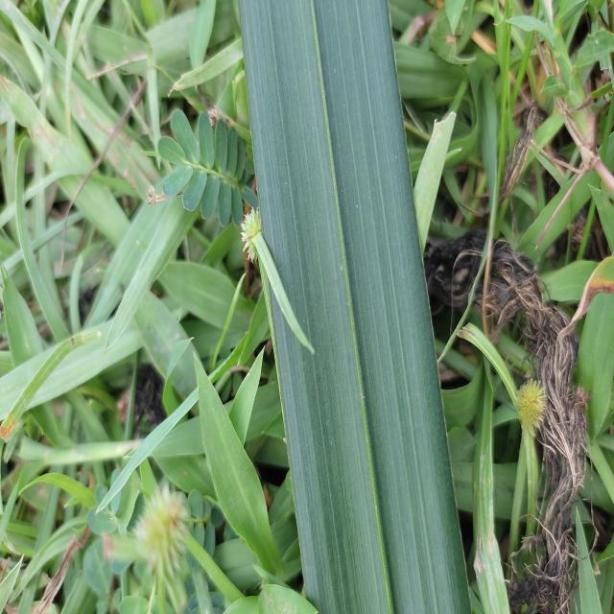Healthy: (234, 0, 478, 614)
